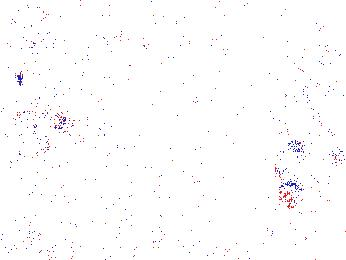flame jellyfish: (263, 62, 308, 138), (6, 109, 72, 160), (273, 140, 320, 209)
